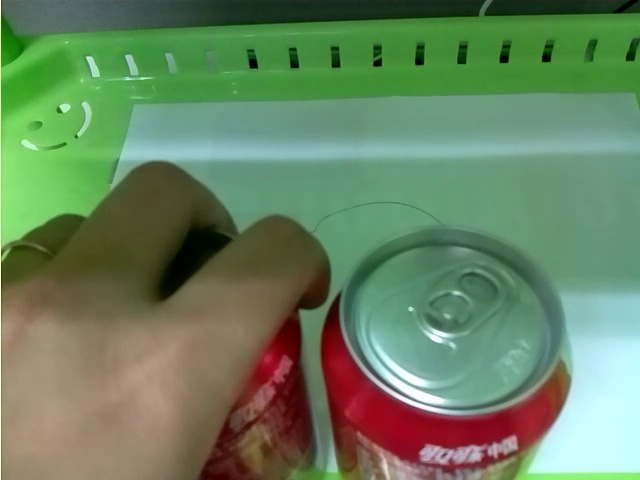cocacola: (330, 228, 574, 480), (154, 214, 320, 480)
hand: (4, 164, 324, 480)
